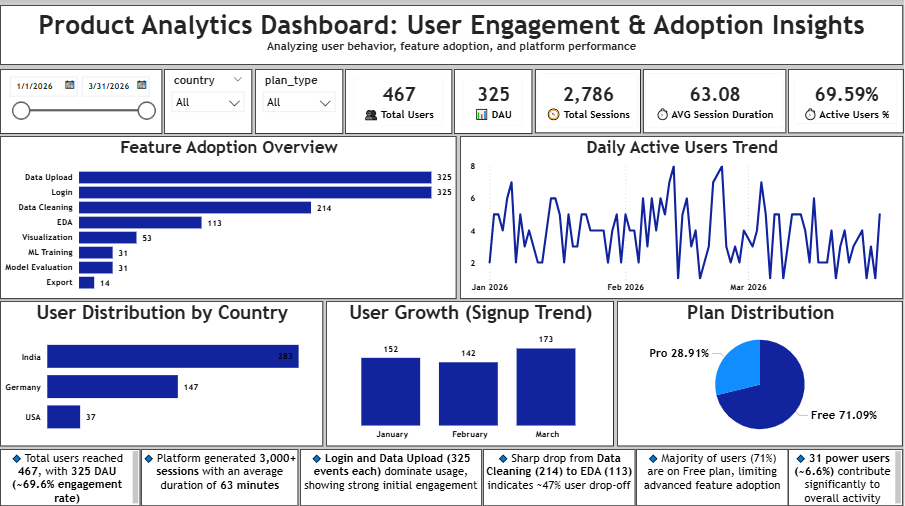

The dashboard page shown, as its layout file describes it:
{"tool":"powerbi","page":{"name":"Executive Overview","canvas":[1280,720],"ordinal":0},"visuals":[{"type":"cardVisual","fields":{"Data":["Users.Total Users"]},"box":[489,100.6,151.7,92.1],"z":0},{"type":"cardVisual","fields":{"Data":["Events.DAU"]},"box":[644,100.6,110.6,92.1],"z":1000},{"type":"cardVisual","fields":{"Data":["Sessions.Total Sessions"]},"box":[758,100.6,150,90.7],"z":2000},{"type":"cardVisual","fields":{"Data":["Sessions.AVG Session Duration"]},"box":[912,100.6,202.7,90.7],"z":3000},{"type":"cardVisual","fields":{"Data":["Users.Active Users %"]},"box":[1116.9,100.6,164.4,90.7],"z":4000},{"type":"lineChart","title":"Daily Active Users Trend","fields":{"Category":["Events.event_date"],"Y":["Events.DAU"]},"box":[652,195.6,627.9,231],"z":5000},{"type":"barChart","title":"Feature Adoption Overview","fields":{"Category":["Events.event_type"],"Y":["Events.Feature Usage"]},"box":[0,195.6,647,231],"z":6000},{"type":"pieChart","title":"Plan Distribution","fields":{"Category":["Users.plan_type"],"Y":["CountNonNull(Users.user_id)"]},"box":[874.5,429.4,405.4,205.5],"z":7000},{"type":"columnChart","title":"User Growth (Signup Trend)","fields":{"Category":["Users.signup_date.Variation.Date Hierarchy.Month"],"Y":["Users.Total Users"]},"box":[462,429.4,408.2,205.5],"z":8000},{"type":"barChart","title":"User Distribution by Country","fields":{"Category":["Users.country"],"Y":["Users.Total Users"]},"box":[0,429.4,457.8,205.5],"z":9000},{"type":"slicer","fields":{"Values":["Users.plan_type"]},"box":[361,100.6,124.7,92.1],"z":10000},{"type":"slicer","fields":{"Values":["Users.country"]},"box":[233,100.8,125,92.2],"z":11000},{"type":"slicer","fields":{"Values":["Date.date"]},"box":[0,100.6,229.6,92.1],"z":12000},{"type":"textbox","box":[0,10.1,1280.2,85],"z":13000},{"type":"textbox","box":[0,639.4,198.7,80.6],"z":14000},{"type":"textbox","box":[200.2,639.4,223.2,80.6],"z":15000},{"type":"textbox","box":[424.8,639.4,257.8,80.6],"z":16000},{"type":"textbox","box":[684,639.4,216,80.6],"z":17000},{"type":"textbox","box":[901.4,639.4,216,80.6],"z":18000},{"type":"textbox","box":[1117.3,639.4,162.7,80.6],"z":19000}]}

Visuals, with their boxes in screenshot pixels (x1, y1, x2, y2), scaled from the page's 1280x720 canvas onto the 905x506 screenshot:
cardVisual - Users.Total Users: (left=346, top=71, right=453, bottom=135)
cardVisual - Events.DAU: (left=455, top=71, right=534, bottom=135)
cardVisual - Sessions.Total Sessions: (left=536, top=71, right=642, bottom=134)
cardVisual - Sessions.AVG Session Duration: (left=645, top=71, right=788, bottom=134)
cardVisual - Users.Active Users %: (left=790, top=71, right=904, bottom=134)
"Daily Active Users Trend" lineChart: (left=461, top=137, right=904, bottom=300)
"Feature Adoption Overview" barChart: (left=0, top=137, right=457, bottom=300)
"Plan Distribution" pieChart: (left=618, top=302, right=904, bottom=446)
"User Growth (Signup Trend)" columnChart: (left=327, top=302, right=615, bottom=446)
"User Distribution by Country" barChart: (left=0, top=302, right=324, bottom=446)
slicer - Users.plan_type: (left=255, top=71, right=343, bottom=135)
slicer - Users.country: (left=165, top=71, right=253, bottom=136)
slicer - Date.date: (left=0, top=71, right=162, bottom=135)
textbox: (left=0, top=7, right=904, bottom=67)
textbox: (left=0, top=449, right=140, bottom=505)
textbox: (left=142, top=449, right=299, bottom=505)
textbox: (left=300, top=449, right=483, bottom=505)
textbox: (left=484, top=449, right=636, bottom=505)
textbox: (left=637, top=449, right=790, bottom=505)
textbox: (left=790, top=449, right=904, bottom=505)
